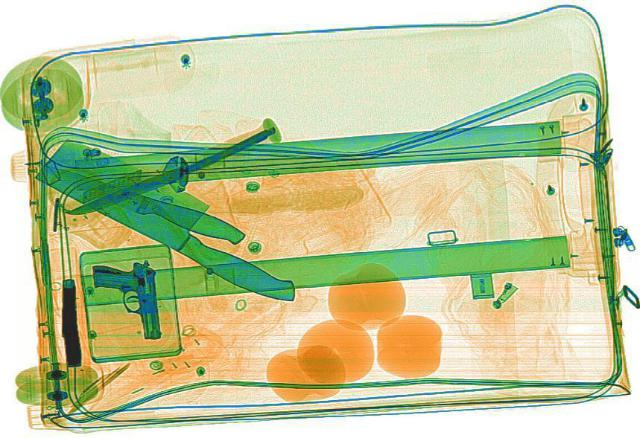Gun: (90, 259, 164, 340), (58, 277, 82, 364)
Knife: (21, 135, 336, 305), (26, 153, 250, 245), (62, 127, 278, 219)
